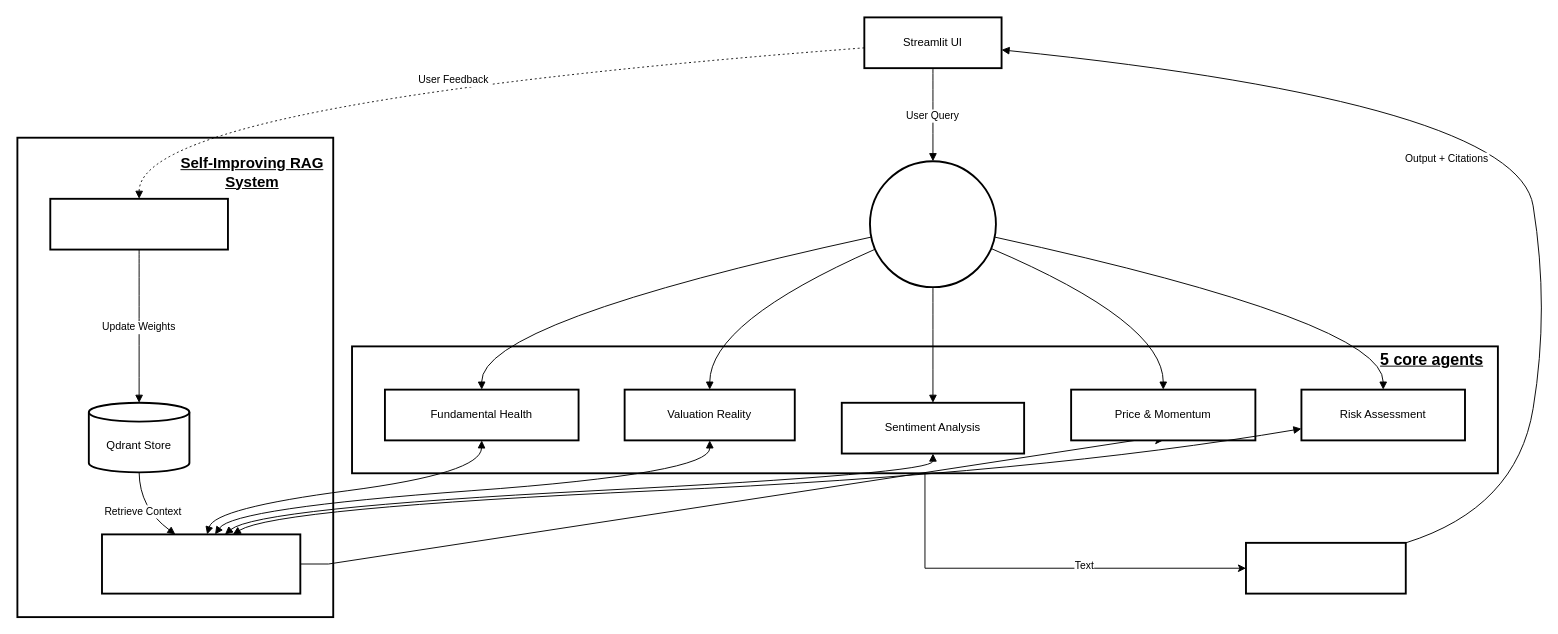
Some shapes in this 1558 by 634 pixel diagram are drawn without their labels. The shapes that lost their labels are listed below. From the top down, each one's centre as x and y in pixels, then its label:
the point at 138,223: Feedback Handler
the point at 932,224: Supervisor Agent
the point at 201,563: RAG Retrieval Engine
the point at 1325,567: Synthesis Layer
